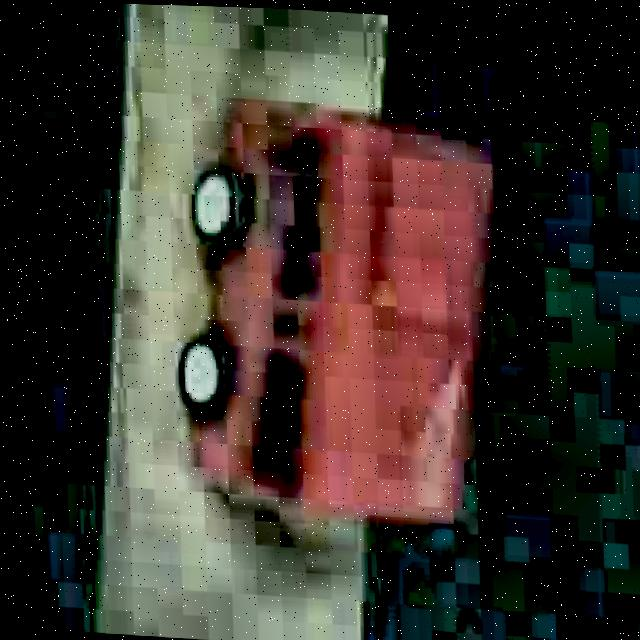bus: (152, 89, 524, 532)
